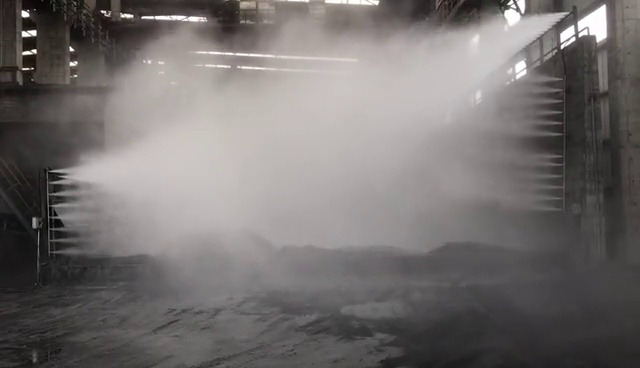dust: (85, 19, 531, 253)
